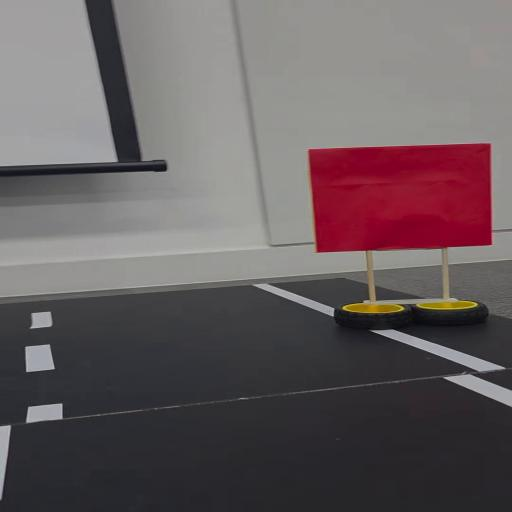Sign_A: (305, 143, 503, 333)
